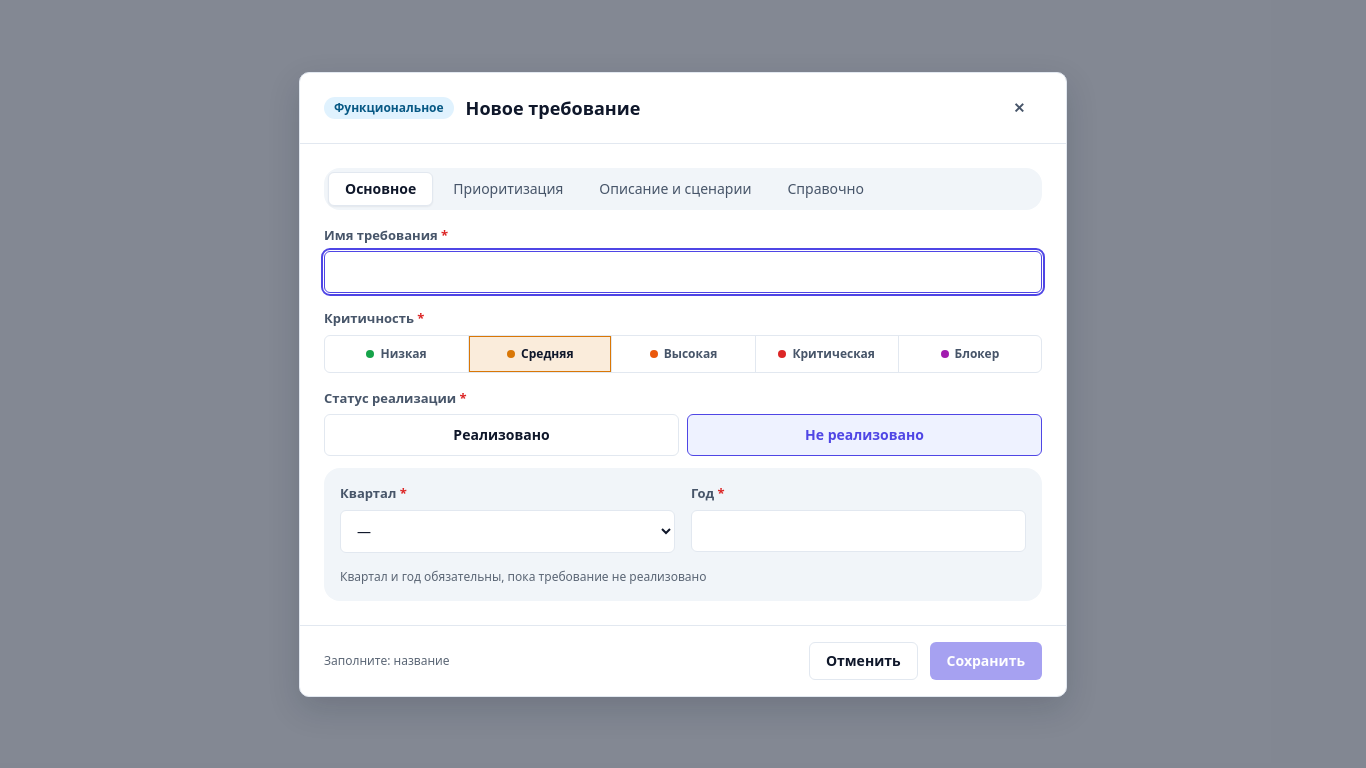
Test case: RequirementModal — AI generation (T-803) › uses the generated text as-is when the description was empty
Type "Новое требование" into the field with test id "req-name" at point(683, 272), box [324,251,1042,293]
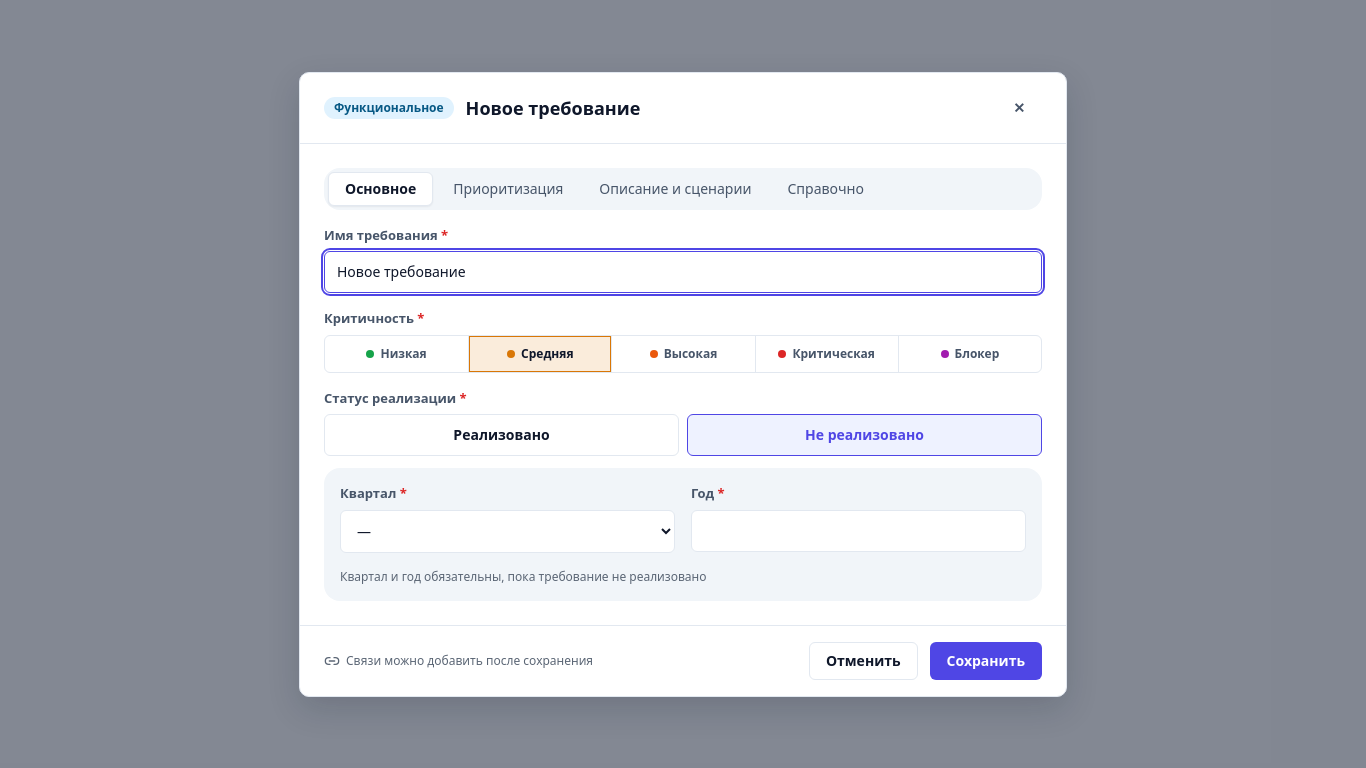
Click the tab with test id "req-tab-desc" at point(675, 188), box [583,172,768,206]
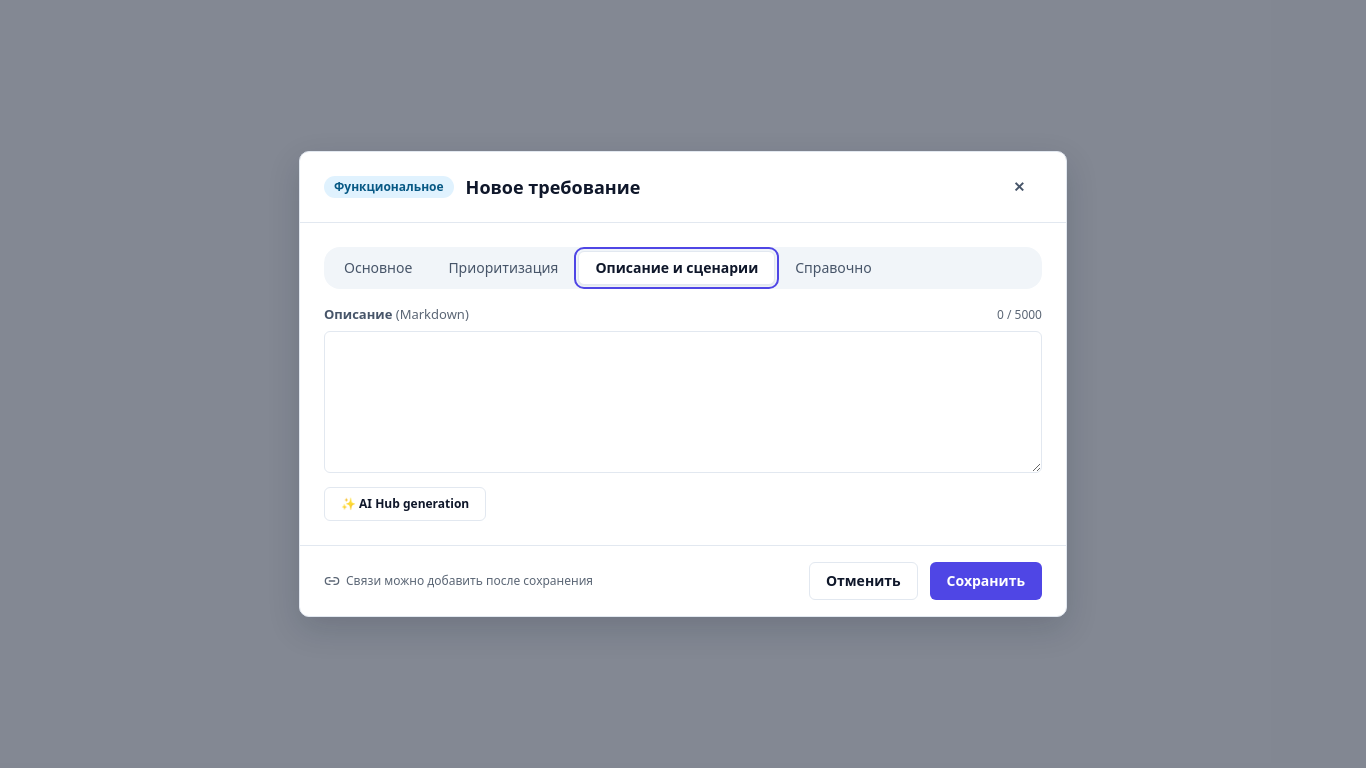
Click the button with test id "ai-gen-open" at point(405, 504), box [324,487,486,521]
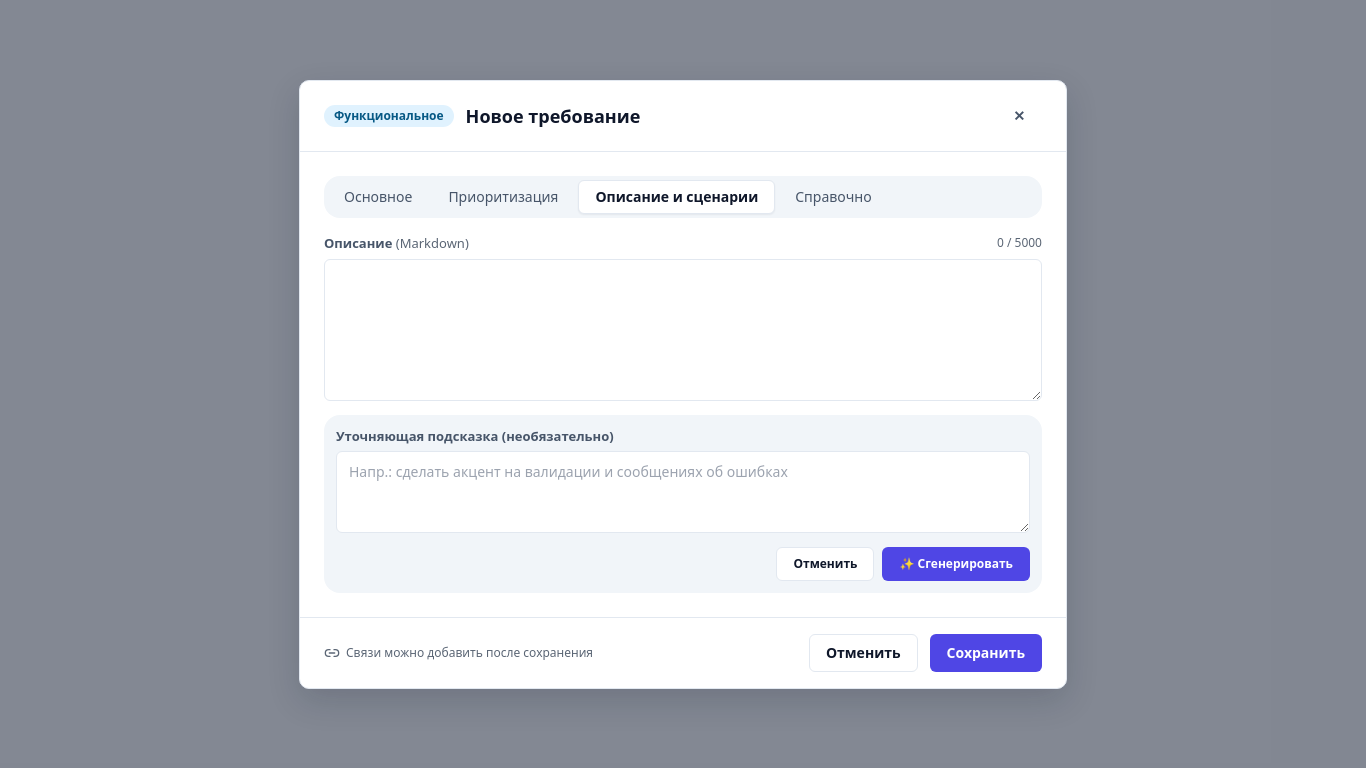
Click the button with test id "ai-gen-submit" at point(956, 564), box [882,546,1030,580]
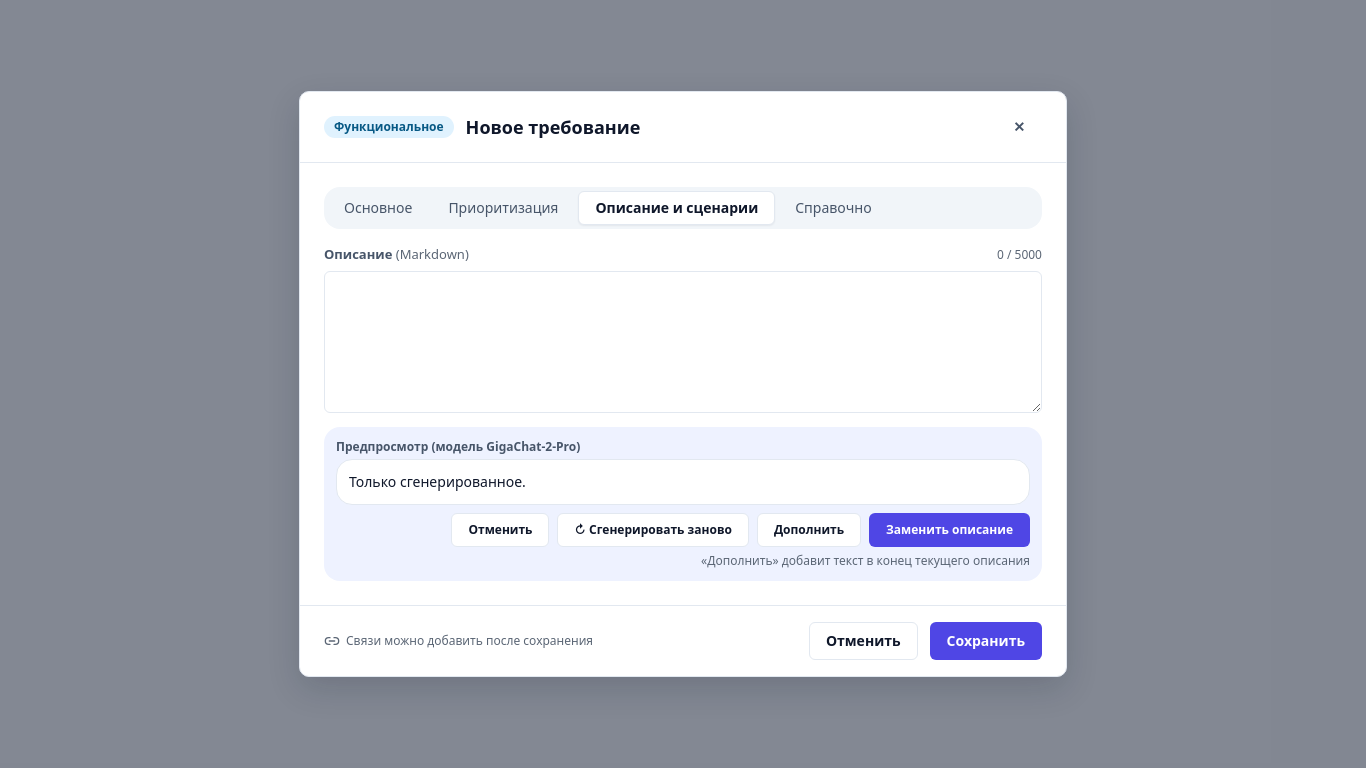
Check: the text "Только сгенерированное." is shown, box [336,459,1030,505]
Click the button with test id "ai-gen-apply" at point(950, 530), box [869,513,1030,547]
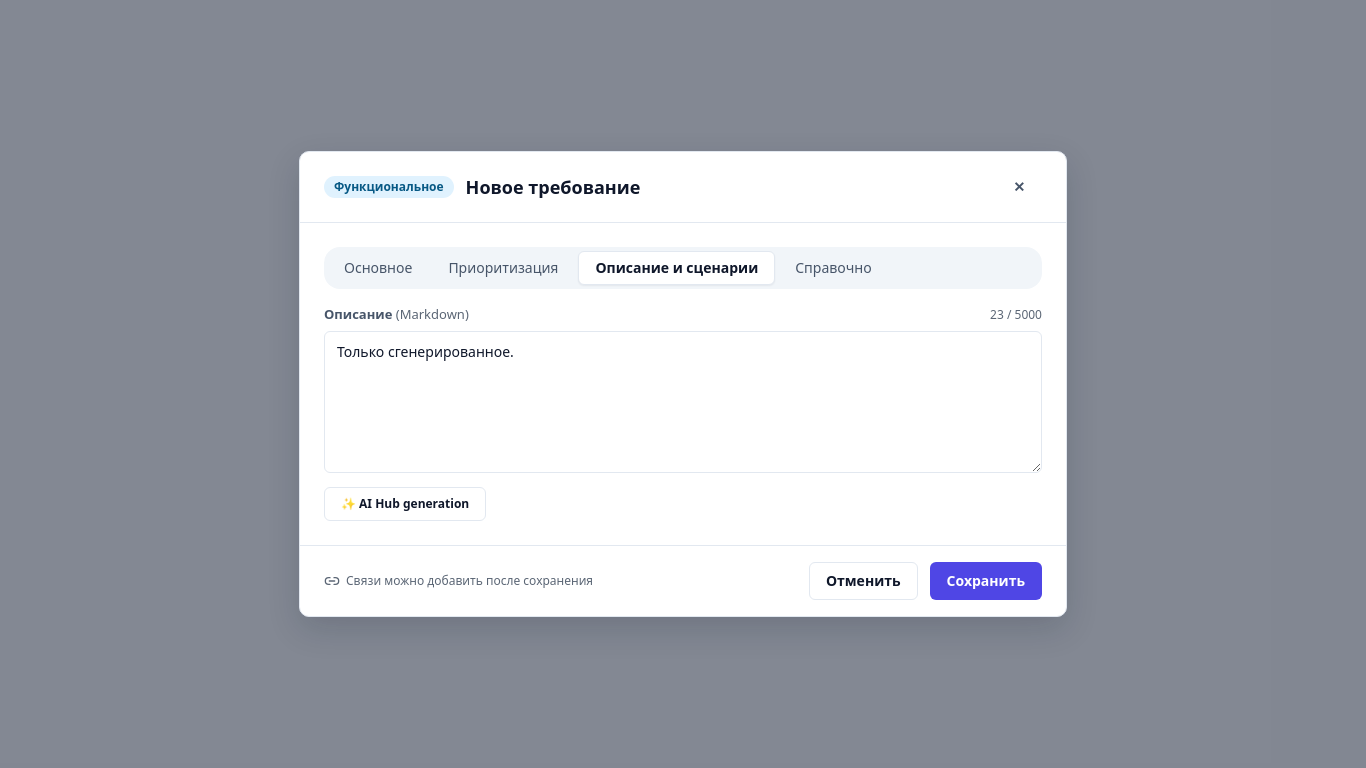
Check: the text box with test id "req-description" holds "Только сгенерированное.", box [324,331,1042,473]
